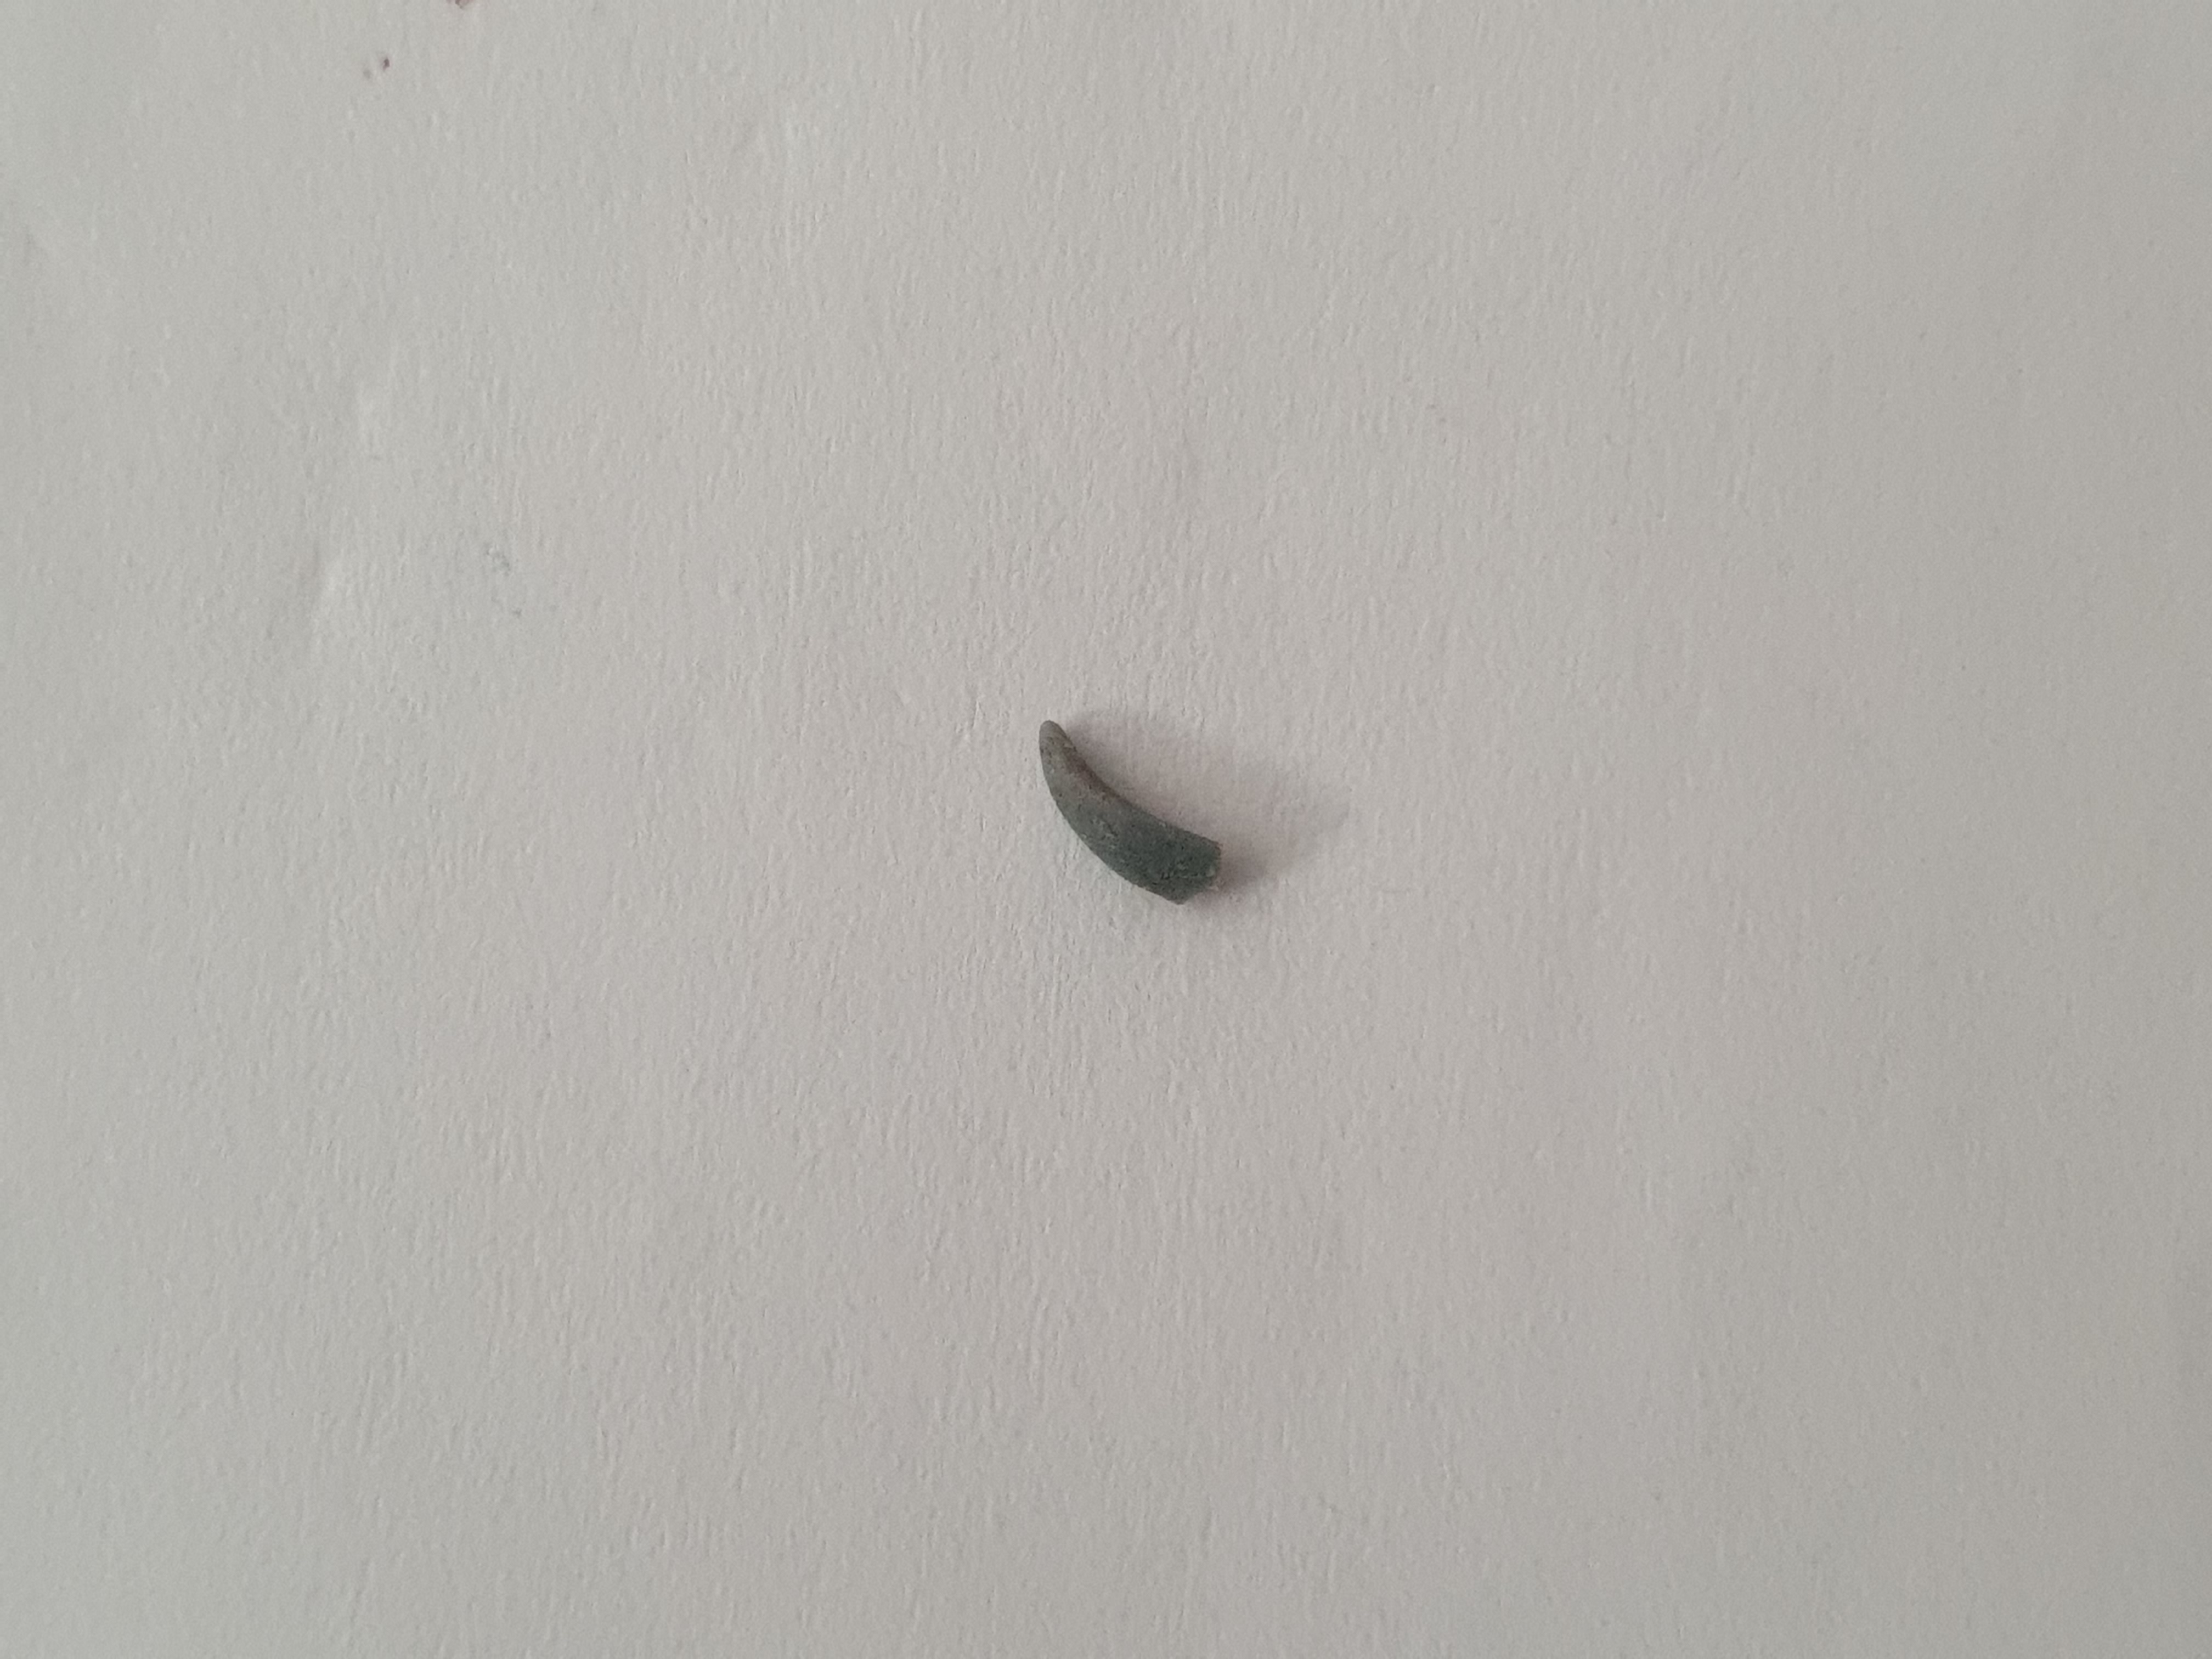plastic: (1022, 690, 1240, 920)
